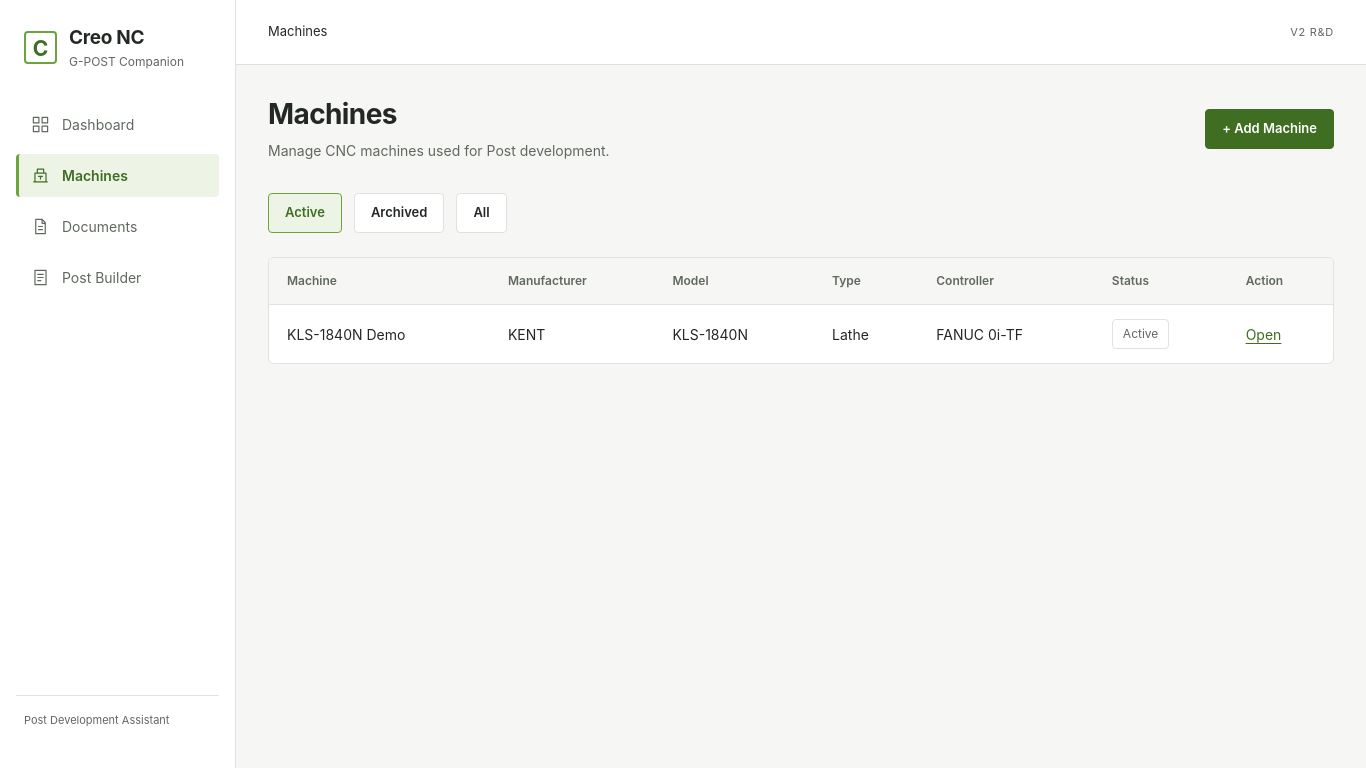
Scenario: Machine management › shows both statuses in All
The width and height of the screenshot is (1366, 768).
Check: the text "Archived mill" is not shown
Step 1. Click the button "All" → (482, 213), box [456, 193, 507, 233]
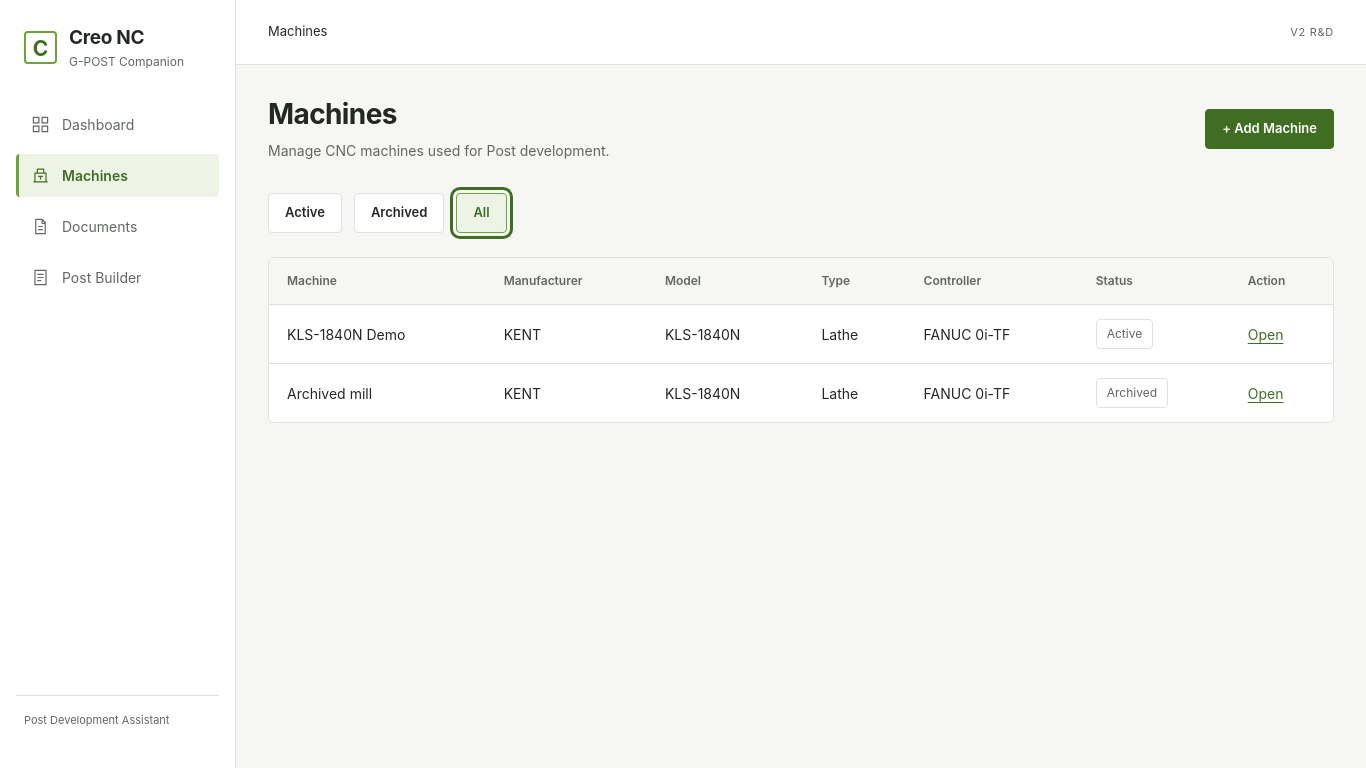
Check: the text "Archived mill" is shown, box [269, 364, 486, 422]
Check: the number of links "Open " is 2, box [1248, 326, 1283, 342]; [1248, 384, 1283, 402]
